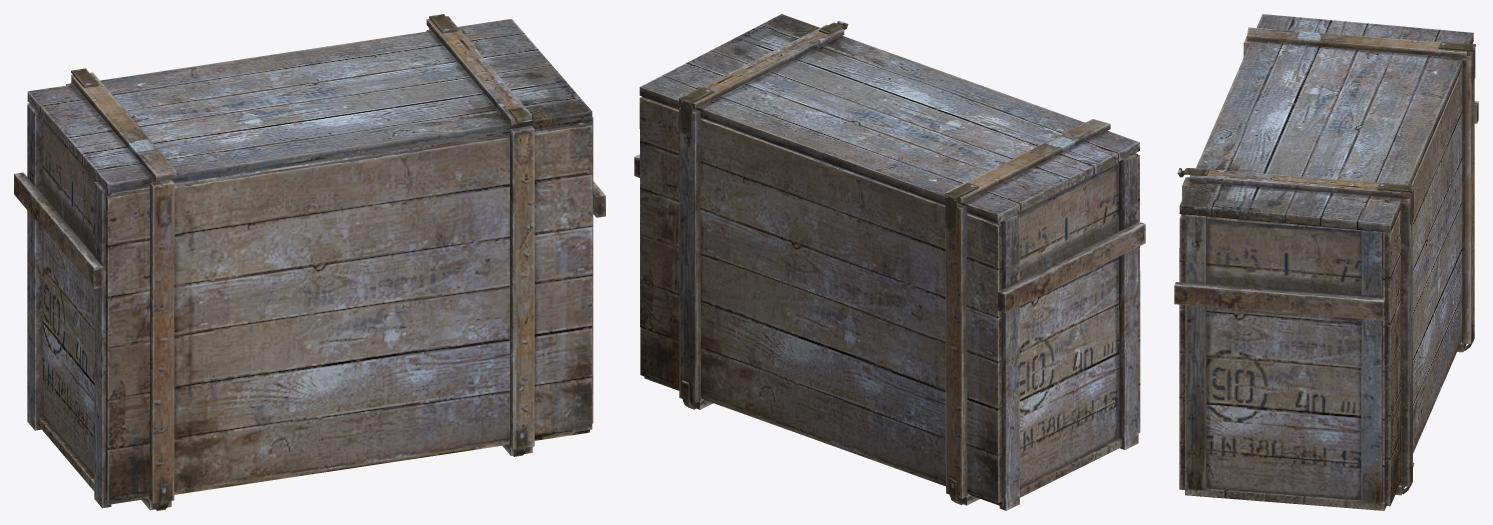
Rendered from BigBOx.fbx.
3 views of the same model, side by side, from view 1: azimuth 30°, elevation 25°; view 2: azimuth 150°, elevation 25°; view 3: azimuth 270°, elevation 25° (orthographic). The views are drawn at different scales.
Visible parts, largest first — view 1: mesh_0.279; view 2: mesh_0.279; view 3: mesh_0.279.
Boxes of the visible parts, x1,y1,x2,y2 form: mesh_0.279: [14, 14, 605, 510]; mesh_0.279: [634, 14, 1145, 510]; mesh_0.279: [1174, 14, 1478, 510].
Bounding box in the file's own units: 1.67 × 1.1 × 0.9926.
